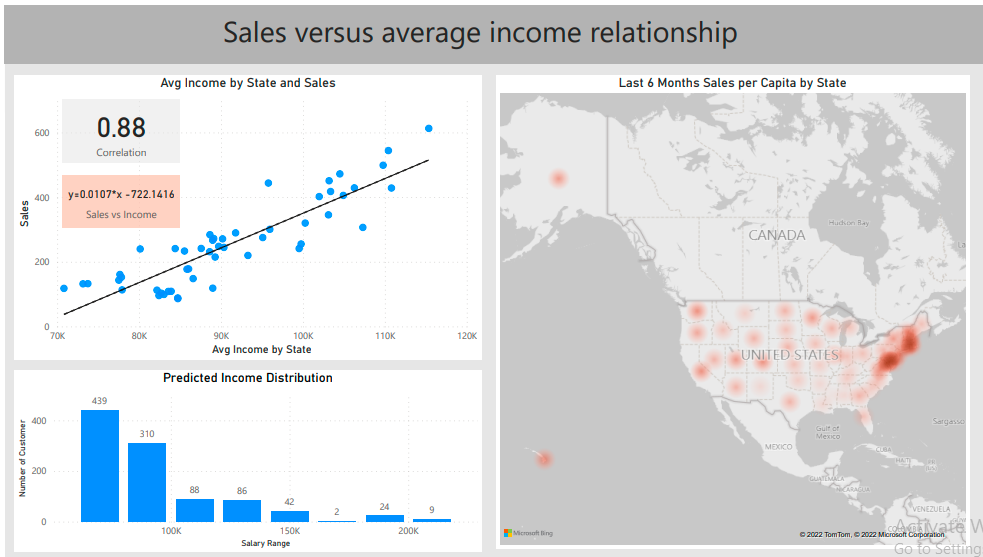

This screenshot's page, from the dashboard's own definition file:
{"tool":"powerbi","page":{"name":"Sales Vs Income","canvas":[1280,720],"ordinal":0},"visuals":[{"type":"shape","box":[0,0,1280,75.9],"z":0},{"type":"textbox","box":[280.1,3.9,749.9,65.2],"z":1000},{"type":"scatterChart","fields":{"X":["Regression Table.x"],"Y":["Regression Table.y"]},"box":[12.4,91.1,609.5,371.5],"z":2000},{"type":"card","fields":{"Values":["Customer Detail Purchase History.R2"]},"box":[75.8,123.3,153.4,82.5],"z":3000},{"type":"map","title":"Last 6 Months Sales per Capita by State","fields":{"Category":["State_Statistics.State"],"Size":["Sum(State_Statistics.State Average Income)"]},"box":[640.5,91.1,616.7,616.7],"z":4000},{"type":"card","fields":{"Values":["Regression Table.Final Formula"]},"box":[75.8,222.4,153.4,69],"z":5000},{"type":"columnChart","title":"Predicted Income Distribution","fields":{"Category":["Customer List.Cust_Group"],"Y":["CountNonNull(Customer List.Cust_Group)"]},"box":[12.4,476,609.5,237],"z":6000}]}

Visuals, with their boxes in screenshot pixels (x1, y1, x2, y2), scaled from the page's 1280x720 canvas onto the 983x557 screenshot:
shape: select_region(0, 0, 982, 59)
textbox: select_region(215, 3, 791, 53)
scatterChart - Regression Table.x x Regression Table.y: select_region(10, 70, 478, 358)
card - Customer Detail Purchase History.R2: select_region(58, 95, 176, 159)
"Last 6 Months Sales per Capita by State" map: select_region(492, 70, 965, 548)
card - Regression Table.Final Formula: select_region(58, 172, 176, 225)
"Predicted Income Distribution" columnChart: select_region(10, 368, 478, 552)
